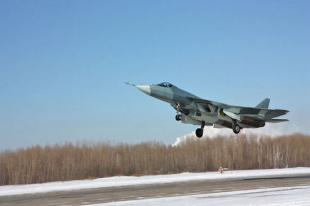airplane: (128, 77, 293, 140)
